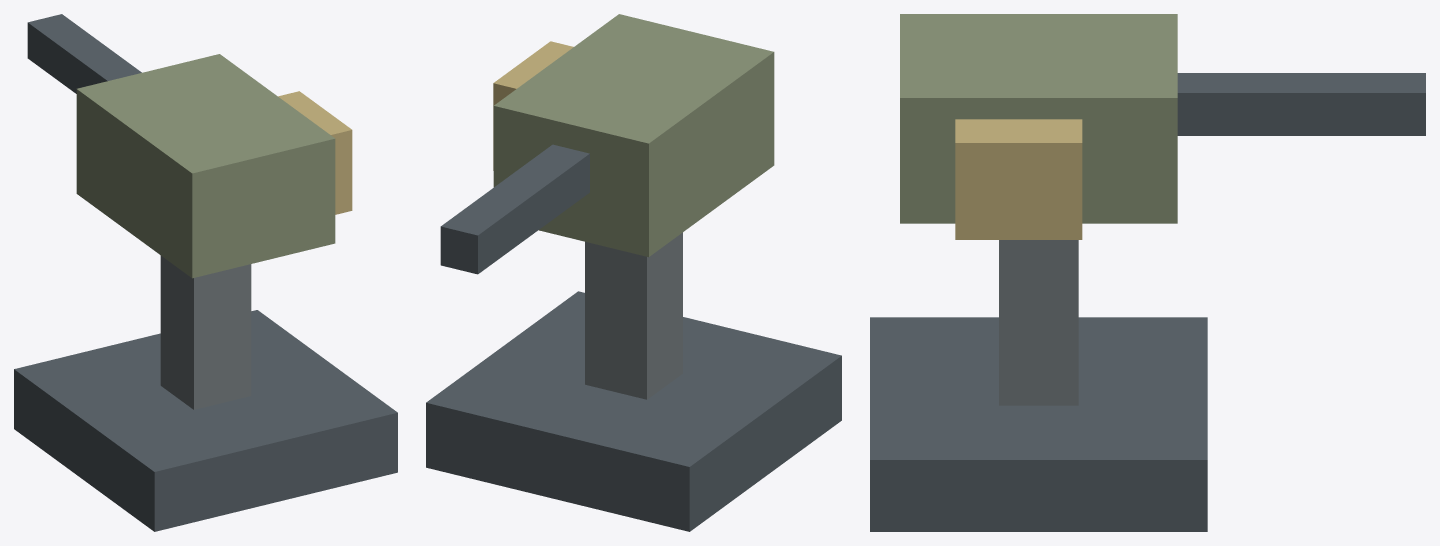
The model's file is turret.glb.
3 renders of one model, left to right at view 1: azimuth 30°, elevation 25°; view 2: azimuth 150°, elevation 25°; view 3: azimuth 270°, elevation 25°, orthographic. The views are drawn at different scales.
Parts seen in each view (by area): view 1: body, head; view 2: body, head; view 3: body, head.
Boxes of the visible parts, box(x1,y1,x2,y2) form: body: box(14, 255, 397, 531); head: box(27, 14, 352, 278); body: box(426, 232, 841, 531); head: box(440, 14, 774, 274); body: box(870, 240, 1207, 531); head: box(900, 14, 1425, 239).
Bounding box in the file's own units: 0.85 × 1.12 × 1.4.
